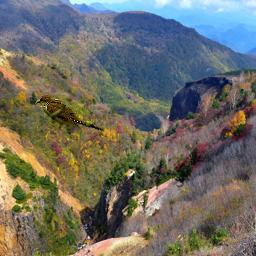Cuckoo: (35, 95, 106, 132)
